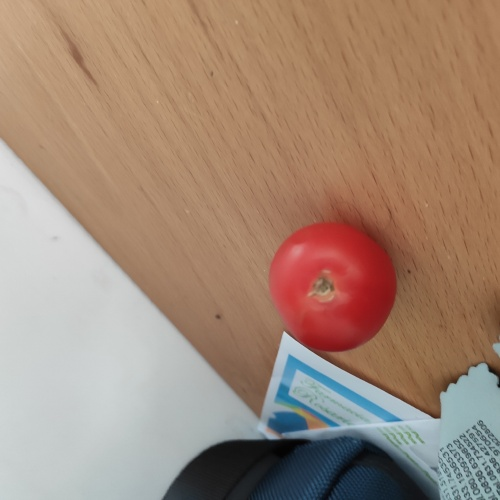pomodoro: (253, 209, 415, 359)
